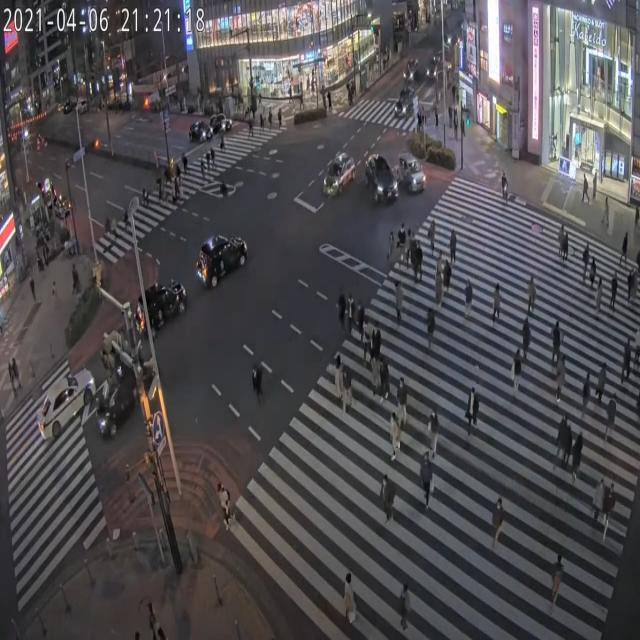bicycle: (497, 165, 513, 222)
humans: (211, 478, 240, 564), (412, 444, 438, 522), (342, 560, 364, 640), (548, 536, 568, 620), (459, 381, 484, 446), (378, 462, 398, 543), (488, 484, 507, 554), (394, 370, 413, 438), (394, 576, 414, 639), (510, 339, 526, 415), (589, 467, 605, 538), (248, 352, 266, 410), (446, 219, 465, 273), (604, 479, 618, 551), (393, 270, 407, 338), (428, 401, 444, 459), (440, 248, 457, 302), (386, 406, 401, 465), (517, 307, 533, 361), (557, 404, 568, 482), (606, 393, 620, 452), (490, 272, 504, 331), (549, 311, 562, 373), (572, 429, 584, 496), (339, 357, 352, 417), (526, 273, 540, 327), (555, 350, 567, 412), (333, 346, 344, 413), (378, 352, 391, 408), (434, 250, 445, 316), (462, 275, 476, 325), (423, 305, 437, 352), (622, 334, 632, 398), (584, 255, 602, 290), (426, 208, 436, 267), (367, 351, 378, 404), (336, 286, 347, 338), (408, 223, 418, 280), (388, 224, 398, 280), (593, 272, 604, 322), (618, 222, 632, 260), (580, 367, 591, 414), (562, 228, 574, 271), (596, 358, 606, 405), (362, 320, 373, 361), (579, 239, 589, 284), (611, 266, 619, 321), (627, 267, 638, 307), (398, 219, 406, 274), (416, 234, 424, 286), (358, 302, 367, 345), (556, 220, 564, 263), (404, 221, 410, 278), (373, 320, 380, 368), (348, 291, 354, 338)
